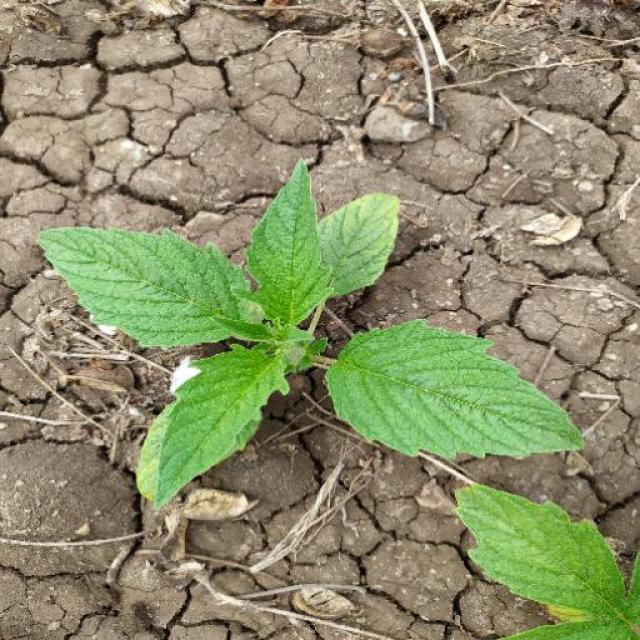crop: (38, 164, 584, 508)
